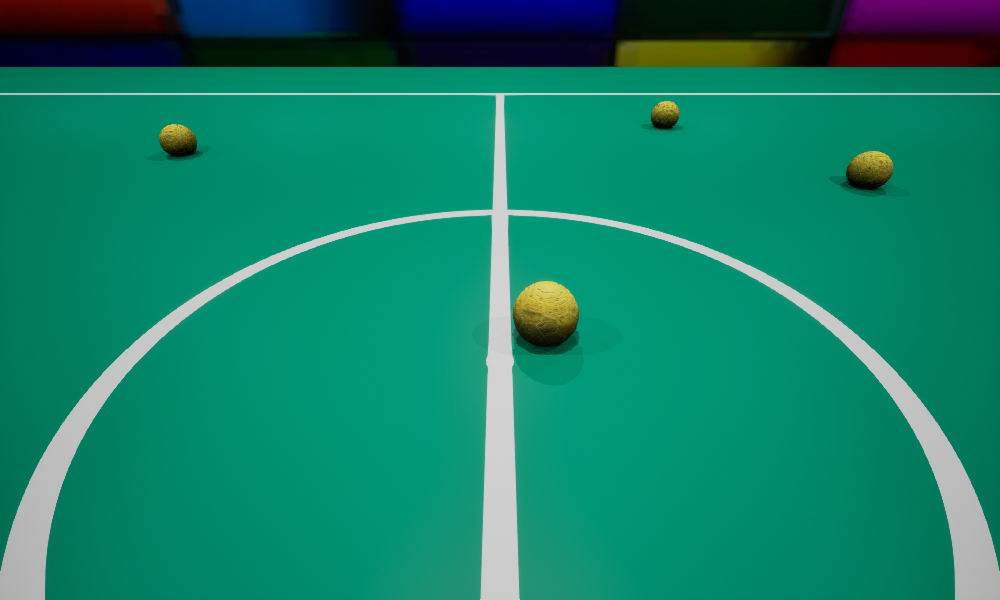b: (513, 281, 578, 345), (846, 151, 892, 189), (159, 124, 196, 156), (651, 101, 679, 128)
